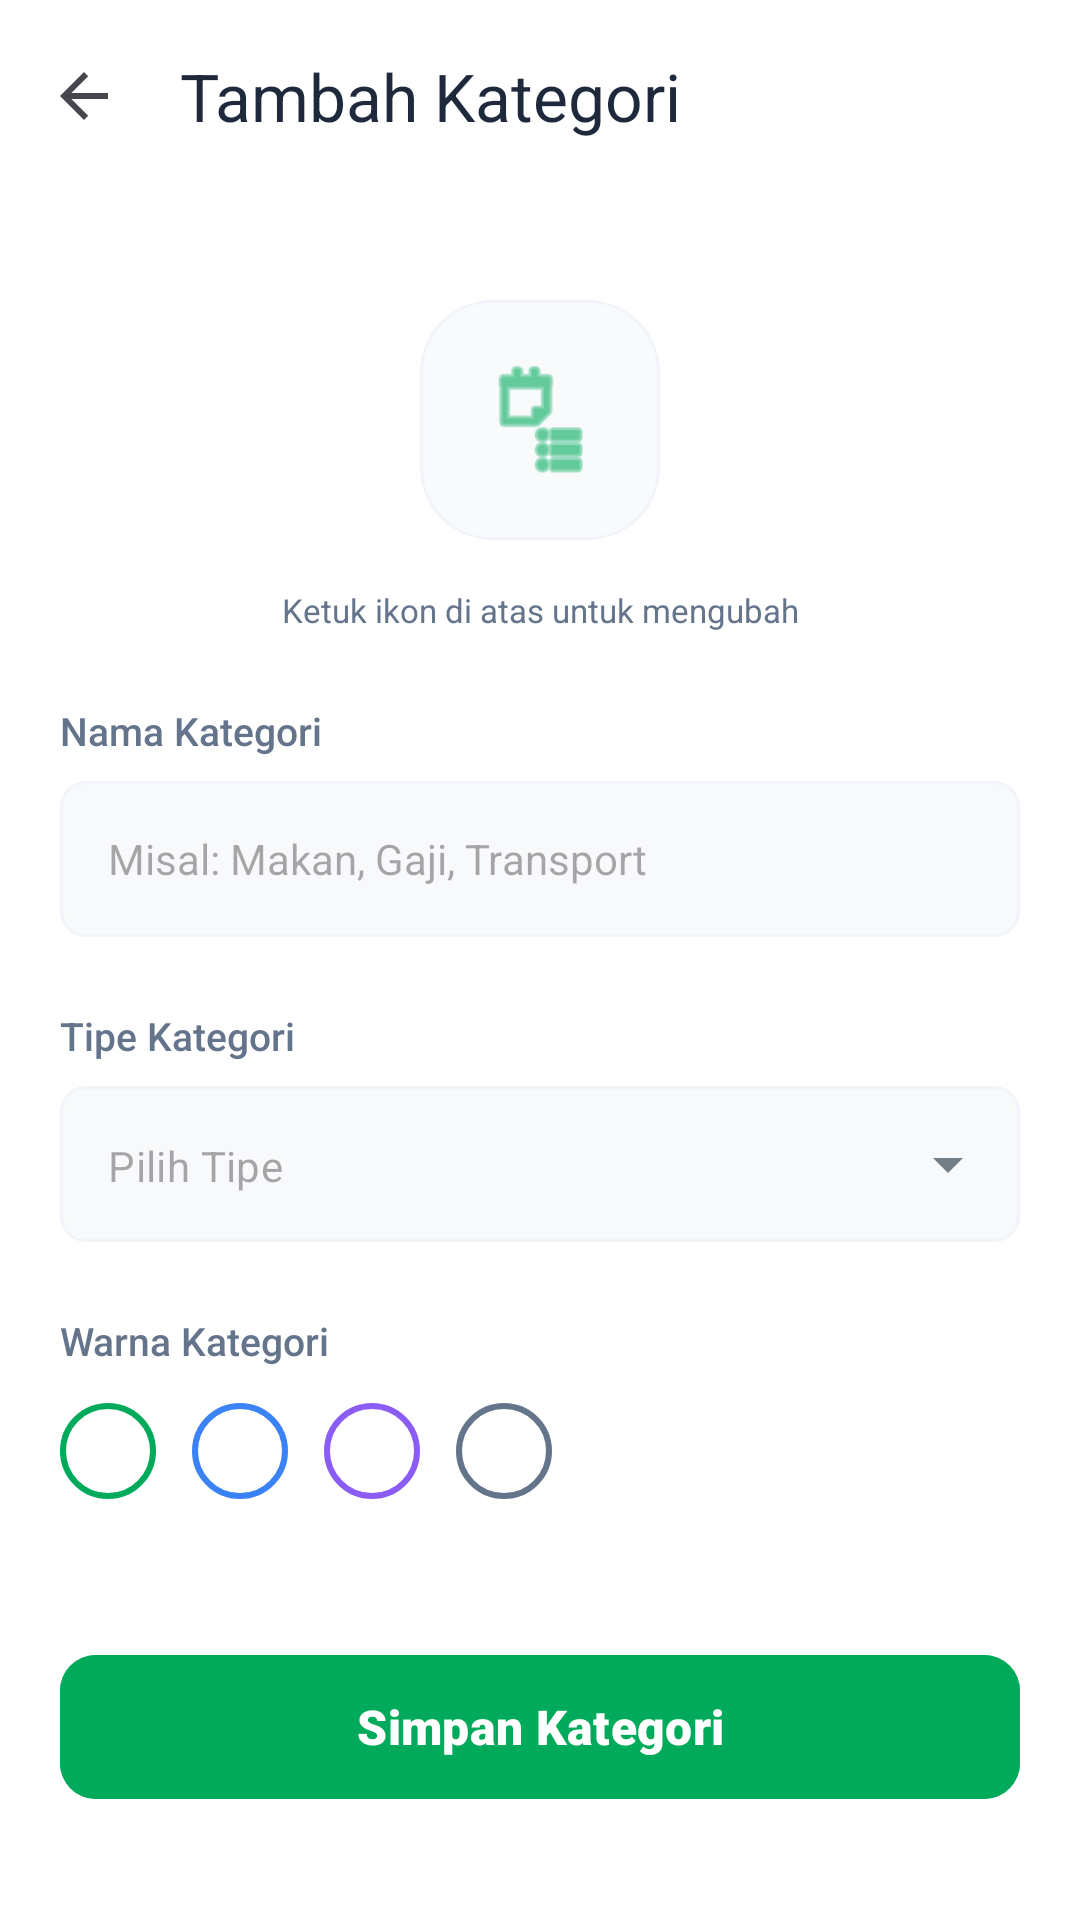

Where to tap for icons on this 1080px x 1920px app screen, as (x,y):
agenda: (540,419)
